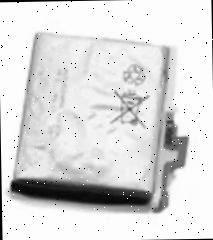electronic: (3, 17, 213, 240)
